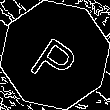P_NE: (26, 24, 84, 86)
